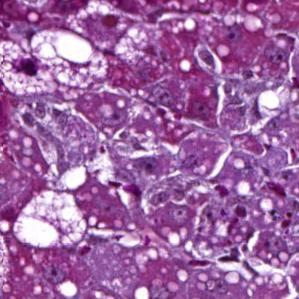ballooning: (4, 25, 109, 99), (11, 189, 89, 251)
